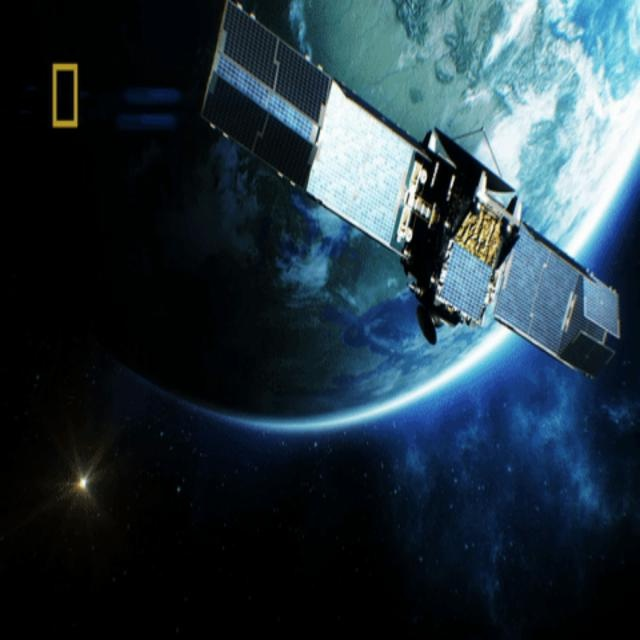satellite: (197, 0, 620, 386)
